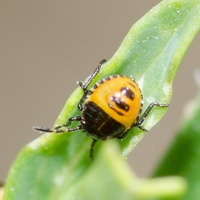insect: (33, 59, 167, 160)
